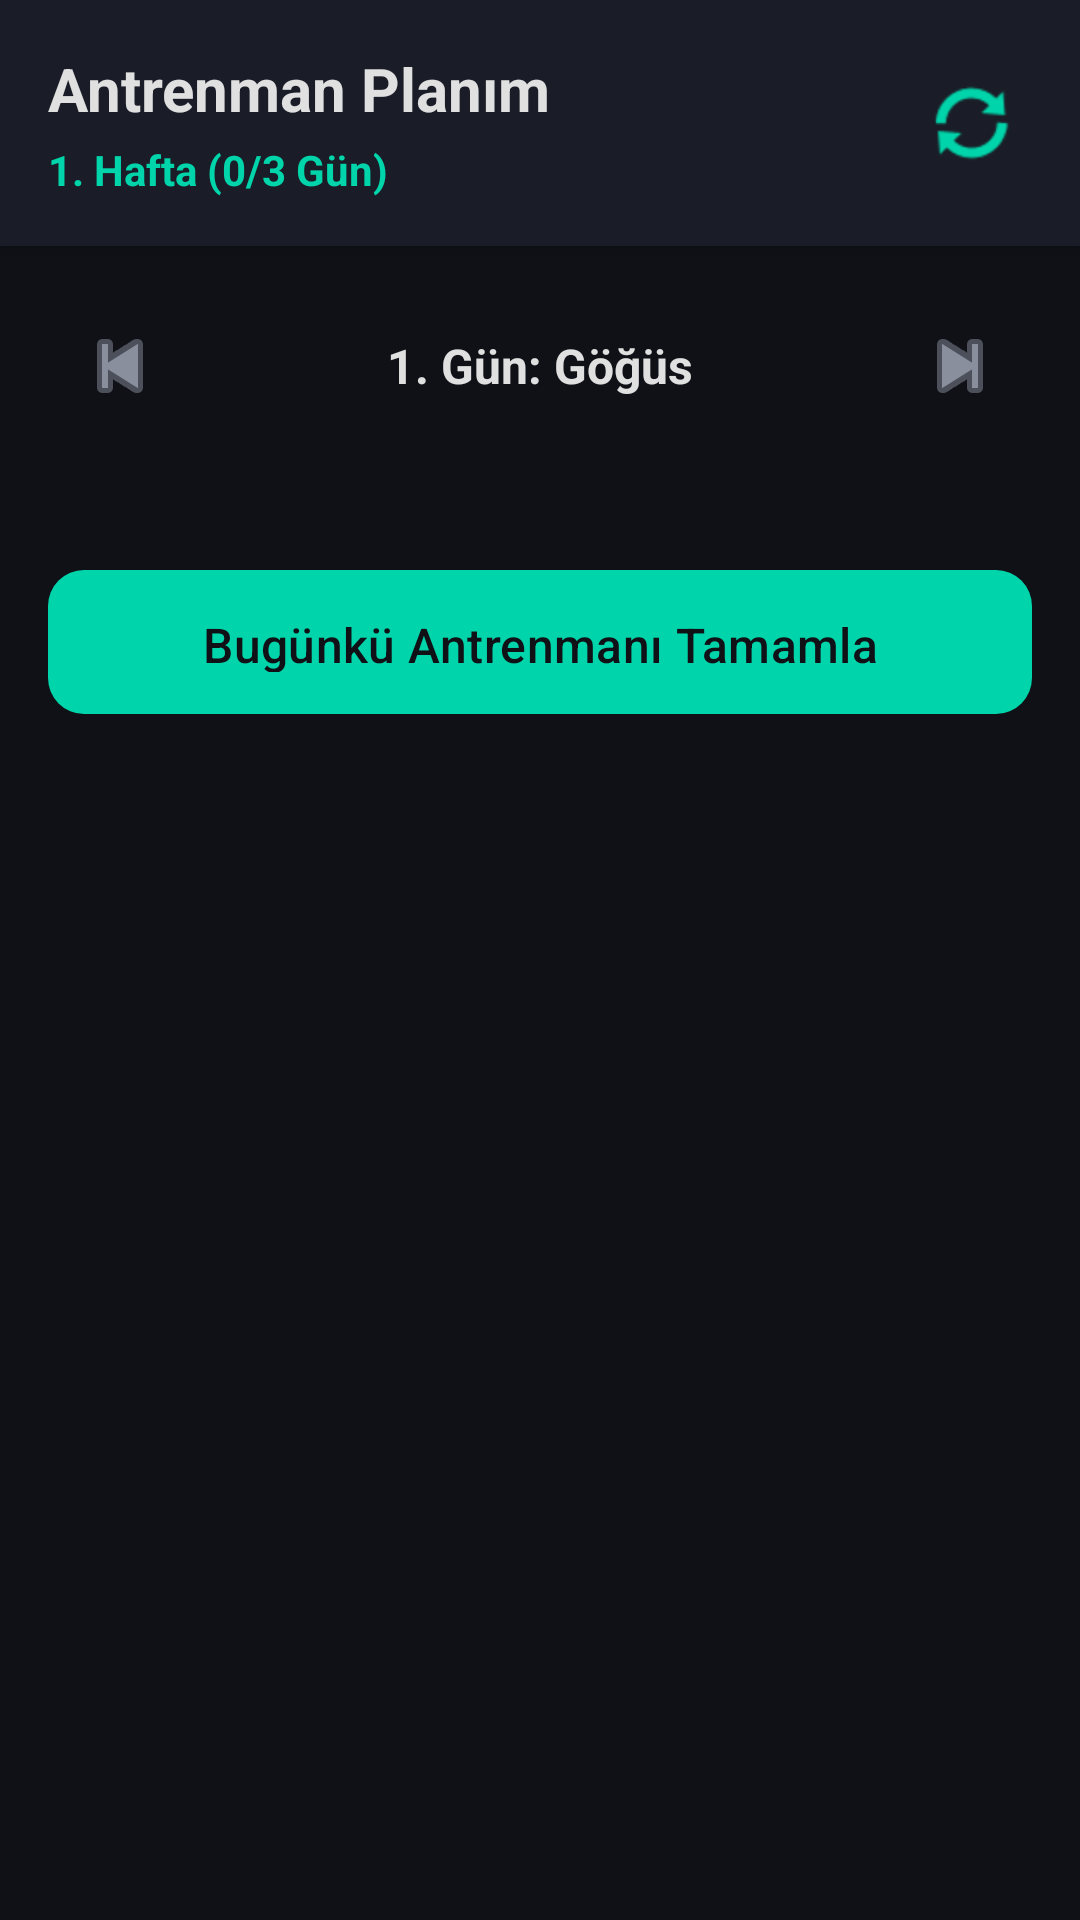

Icons on this 1080*1920 Android screen, each with the point to tap as (x=x, y=y):
next: (x=960, y=366)
Planı Yenile: (x=971, y=123)
previous: (x=120, y=366)
